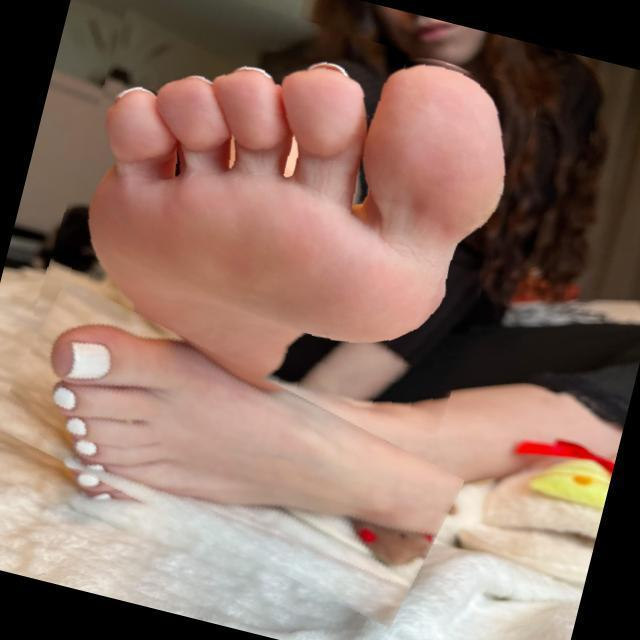Barefoots: (85, 50, 507, 390), (38, 313, 440, 537)
